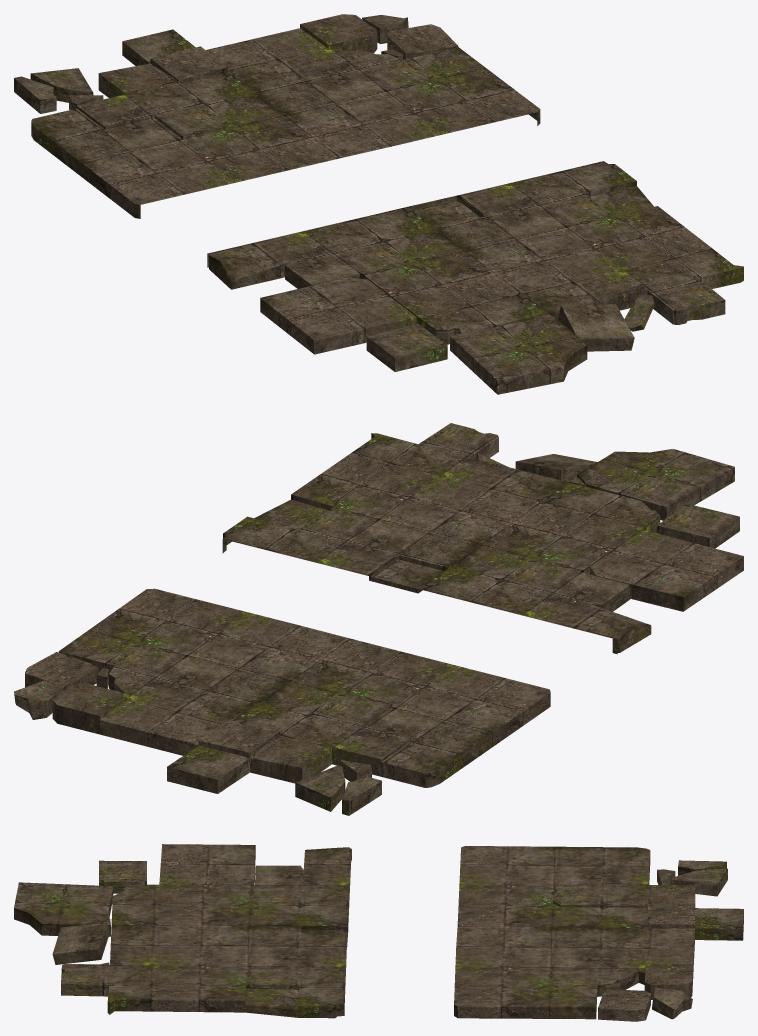
File: suelo ruinas.FBX
The picture shows the model from 3 angles, top to bottom: view 1: azimuth 30°, elevation 25°; view 2: azimuth 150°, elevation 25°; view 3: azimuth 270°, elevation 25°; orthographic projection. The views are drawn at different scales.
Parts seen in each view (by area): view 1: Object001, building_broken_001_11; view 2: Object001, building_broken_001_11; view 3: Object001, building_broken_001_11.
Part boxes in pixels (x1,y1,x2,y2): Object001: (207,161,743,394); building_broken_001_11: (14,14,540,218); Object001: (222,423,743,654); building_broken_001_11: (14,588,550,815); Object001: (14,844,351,1018); building_broken_001_11: (454,846,743,1021).
Size of the model in its own units: 152 by 11.44 by 281.
